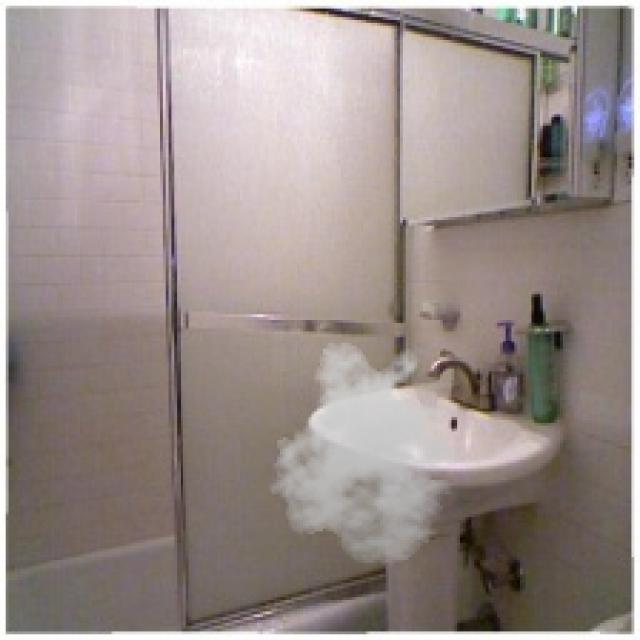smoke: (263, 340, 474, 566)
